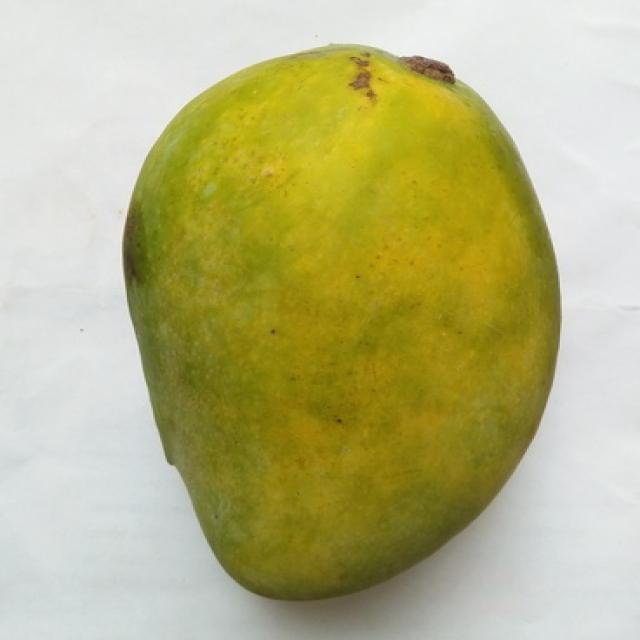Mango: (125, 47, 558, 599)
